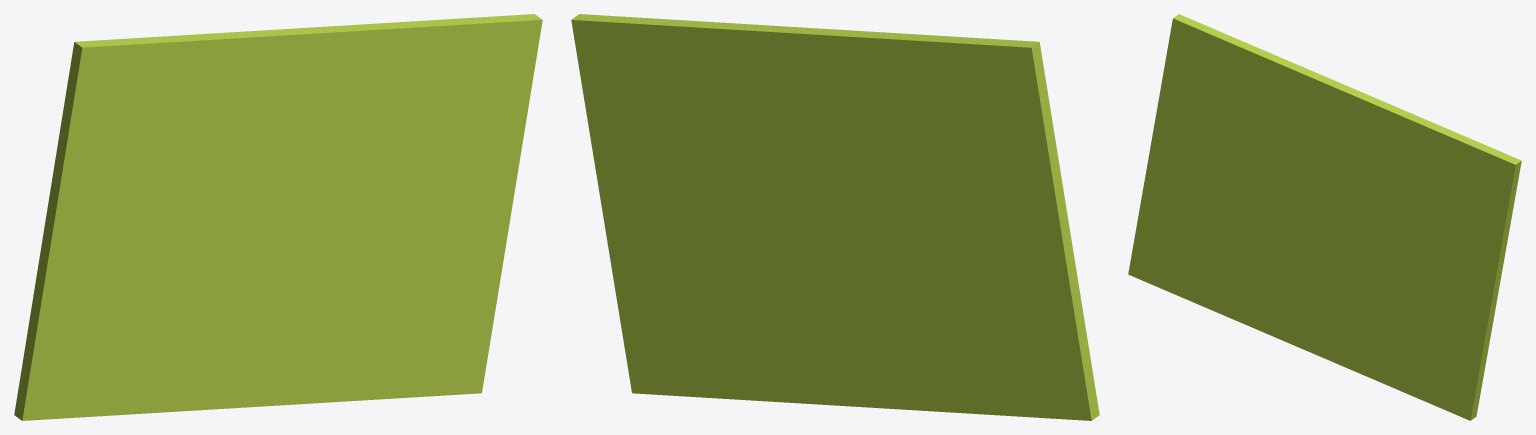
3 views of the same model, side by side, from view 1: azimuth 30°, elevation 25°; view 2: azimuth 150°, elevation 25°; view 3: azimuth 330°, elevation 25° (orthographic). The views are drawn at different scales.
Parts seen in each view (by area): view 1: osm-way27917482-F2; view 2: osm-way27917482-F2; view 3: osm-way27917482-F2.
Boxes of the visible parts, <box> form: osm-way27917482-F2: <box>14,14,542,420</box>; osm-way27917482-F2: <box>571,14,1099,420</box>; osm-way27917482-F2: <box>1128,14,1521,420</box>.
Size of the model in its own units: 5.59 by 4.55 by 0.15.
